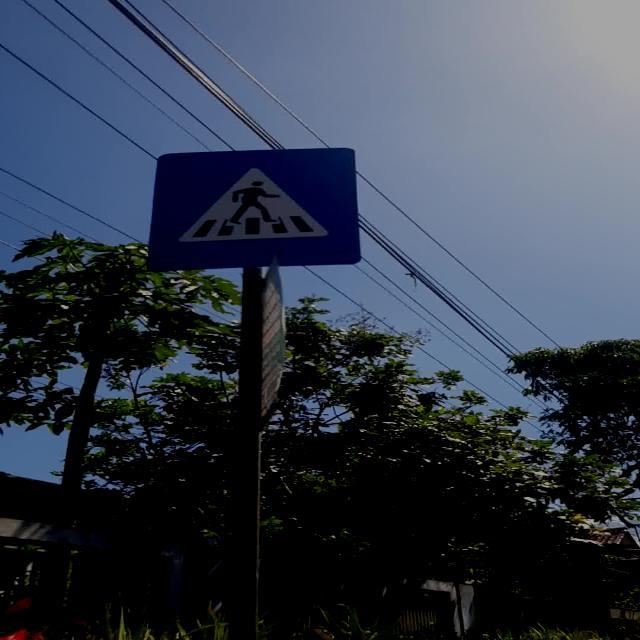Perintah Jalur Penyebrangan: (148, 147, 358, 272)
